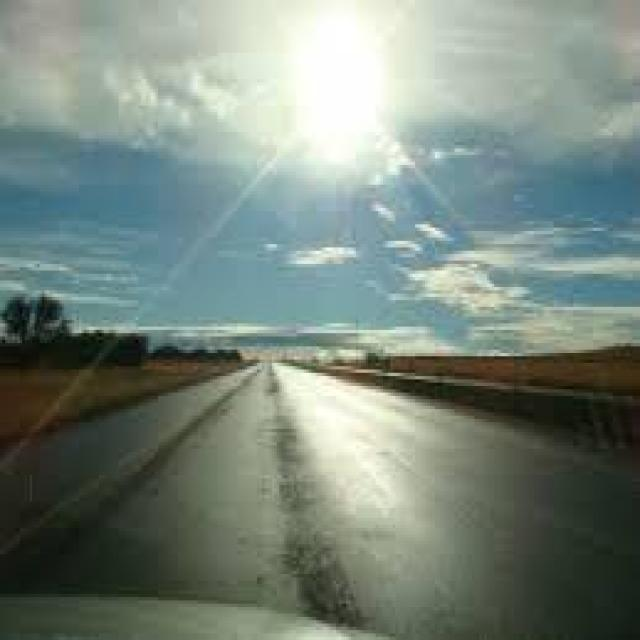other: (257, 6, 410, 173)
